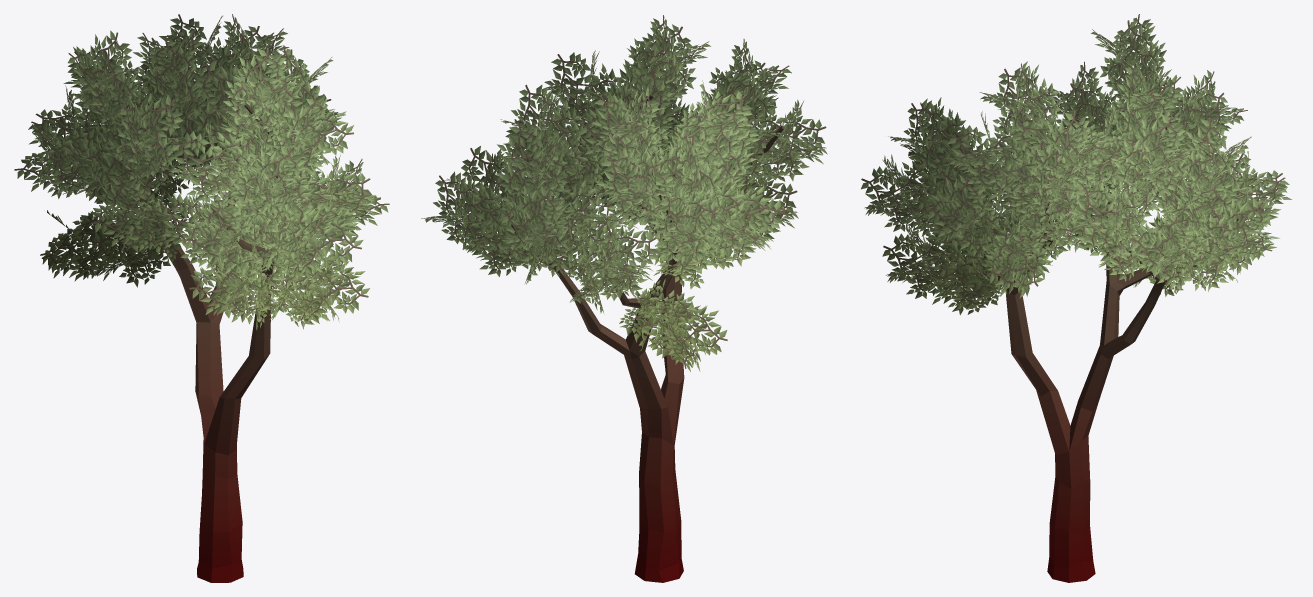
File: synty-tree-generic-01.gltf
The picture shows the model from 3 angles, left to right: view 1: azimuth 30°, elevation 25°; view 2: azimuth 150°, elevation 25°; view 3: azimuth 270°, elevation 25°; orthographic projection. The views are drawn at different scales.
Parts seen in each view (by area): view 1: SM_Tree_Generic_01; view 2: SM_Tree_Generic_01; view 3: SM_Tree_Generic_01.
Part boxes in pixels (left/top/right/bottom): SM_Tree_Generic_01: left=14, top=14, right=389, bottom=582; SM_Tree_Generic_01: left=421, top=15, right=827, bottom=582; SM_Tree_Generic_01: left=861, top=14, right=1291, bottom=582.
Size of the model in its own units: 3.43 by 5.6 by 4.23.
Materials: 2 (2 with a texture image).
